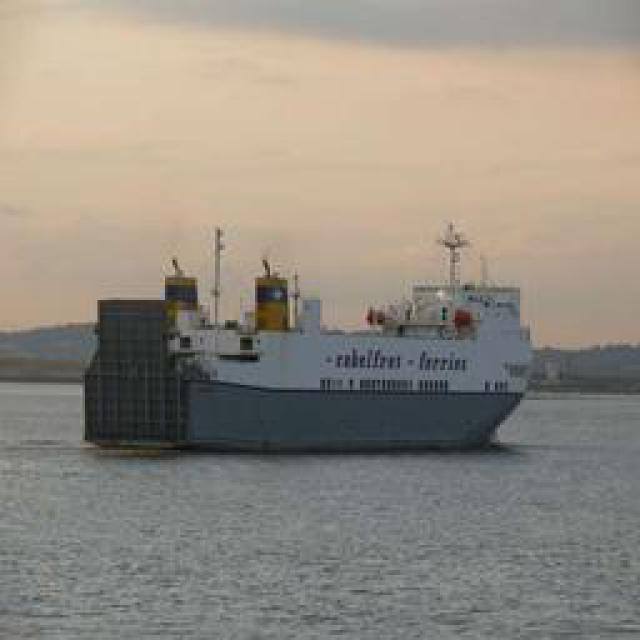Ship: (124, 214, 534, 457)
